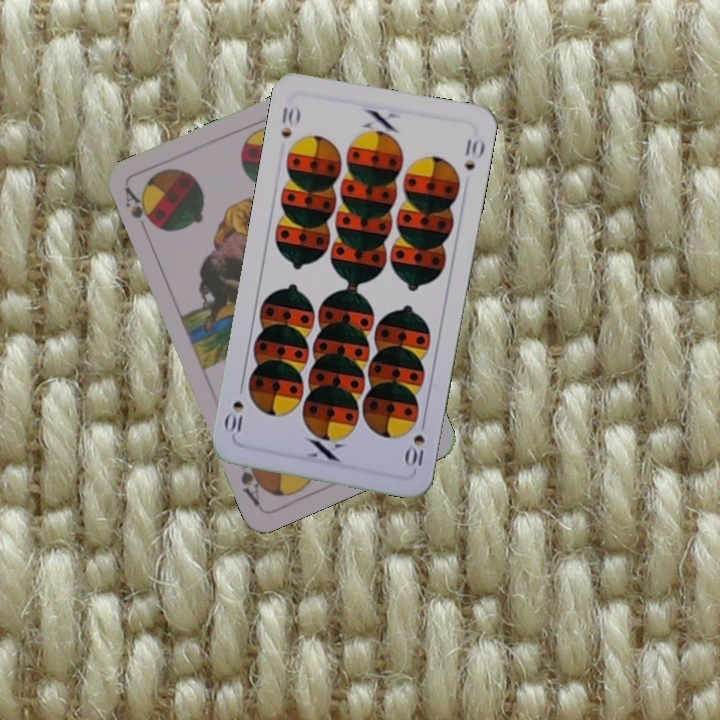S10: (402, 414, 428, 473), (277, 101, 303, 142)
SA: (120, 184, 153, 226)
